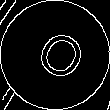O_SW: (23, 22, 87, 88)
